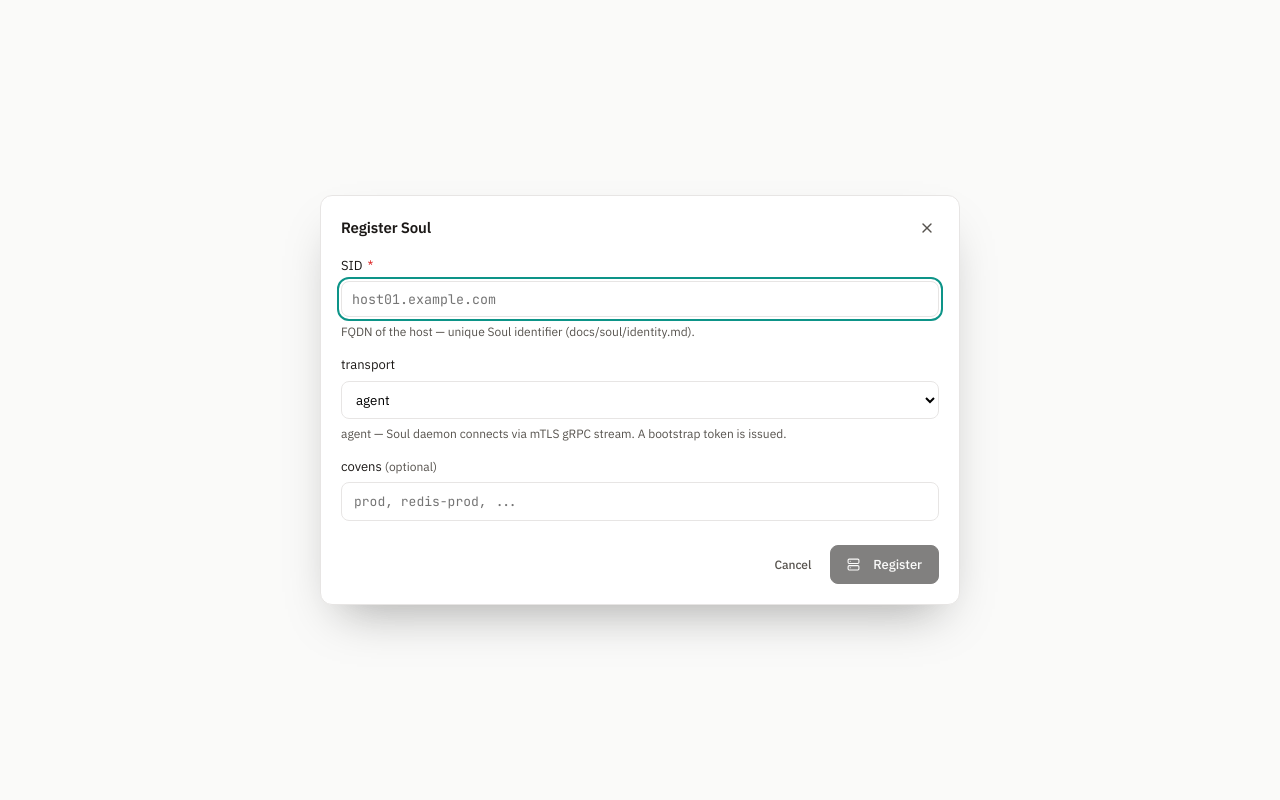
Scenario: CreateSoulModal › invalid SID shows an error and disables the button
Type "INVALID_SID!" into the field named "new host SID".
click(640, 299); type("INVALID_SID!")  # box x1=341 y1=281 x2=939 y2=317
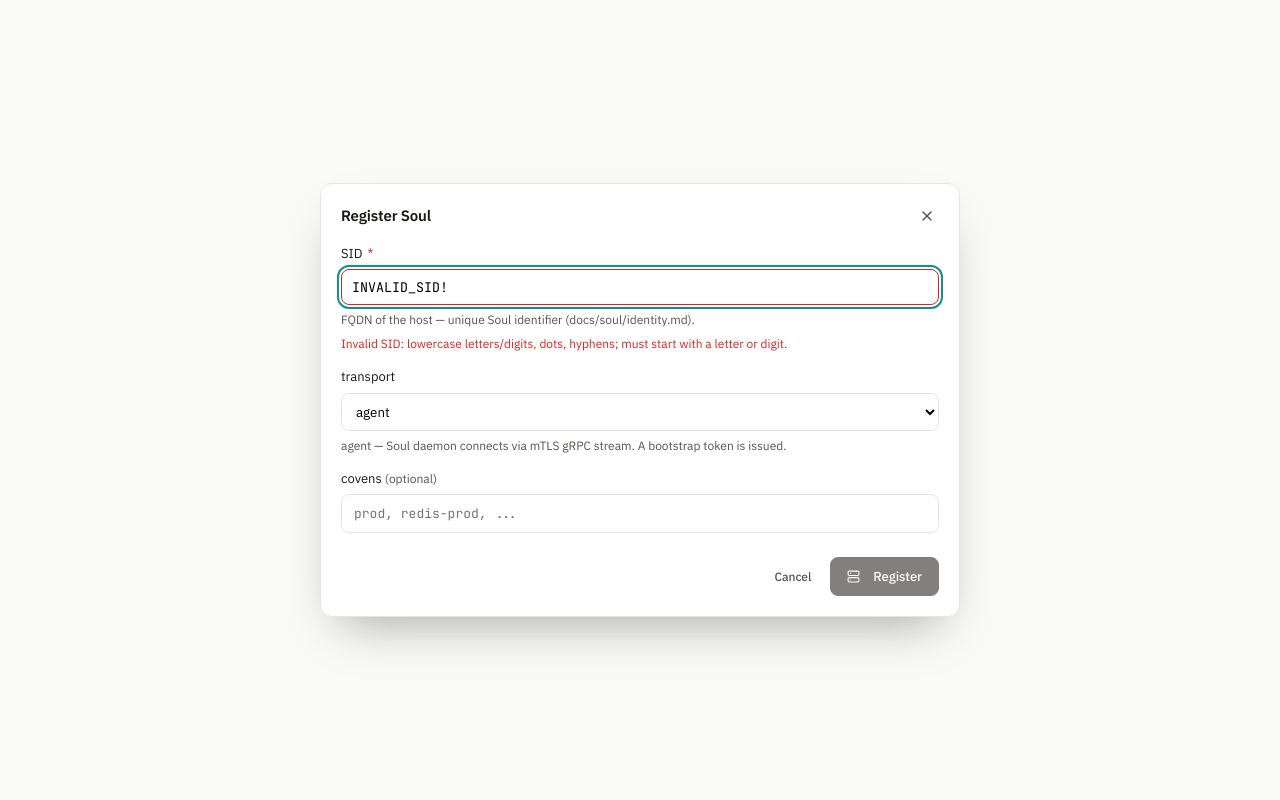
Check: the button "Register" is disabled, box x1=830 y1=557 x2=939 y2=596
Check: the text "Invalid SID" is shown, box x1=341 y1=336 x2=787 y2=351
